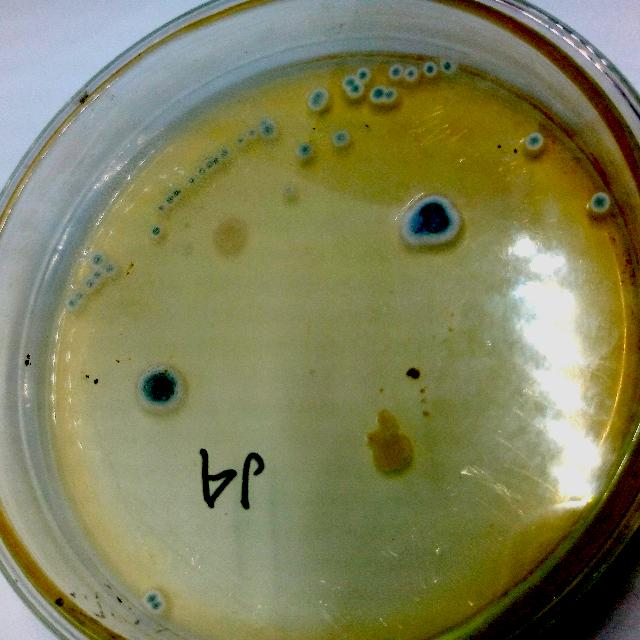colony: (398, 194, 468, 252), (130, 364, 192, 414), (366, 432, 418, 480), (210, 216, 256, 258), (522, 130, 546, 154), (588, 192, 612, 216), (294, 140, 316, 160), (420, 58, 440, 80), (332, 130, 352, 150), (369, 84, 386, 106), (386, 62, 404, 82), (402, 64, 420, 84), (355, 66, 373, 84), (437, 58, 455, 76), (382, 86, 398, 104), (260, 124, 278, 140), (89, 251, 107, 267), (148, 598, 166, 614), (348, 83, 364, 101), (142, 590, 160, 606), (313, 86, 332, 100), (308, 96, 324, 112), (341, 74, 357, 90), (101, 262, 117, 276), (91, 268, 105, 282), (84, 278, 98, 292), (66, 296, 80, 310), (258, 115, 272, 128), (150, 225, 162, 238), (208, 154, 220, 166), (196, 164, 208, 176), (186, 176, 198, 188), (219, 148, 231, 158), (164, 195, 176, 205), (156, 203, 168, 213), (74, 291, 85, 301), (172, 188, 182, 198), (236, 136, 247, 144), (205, 161, 215, 169), (248, 130, 256, 138)
